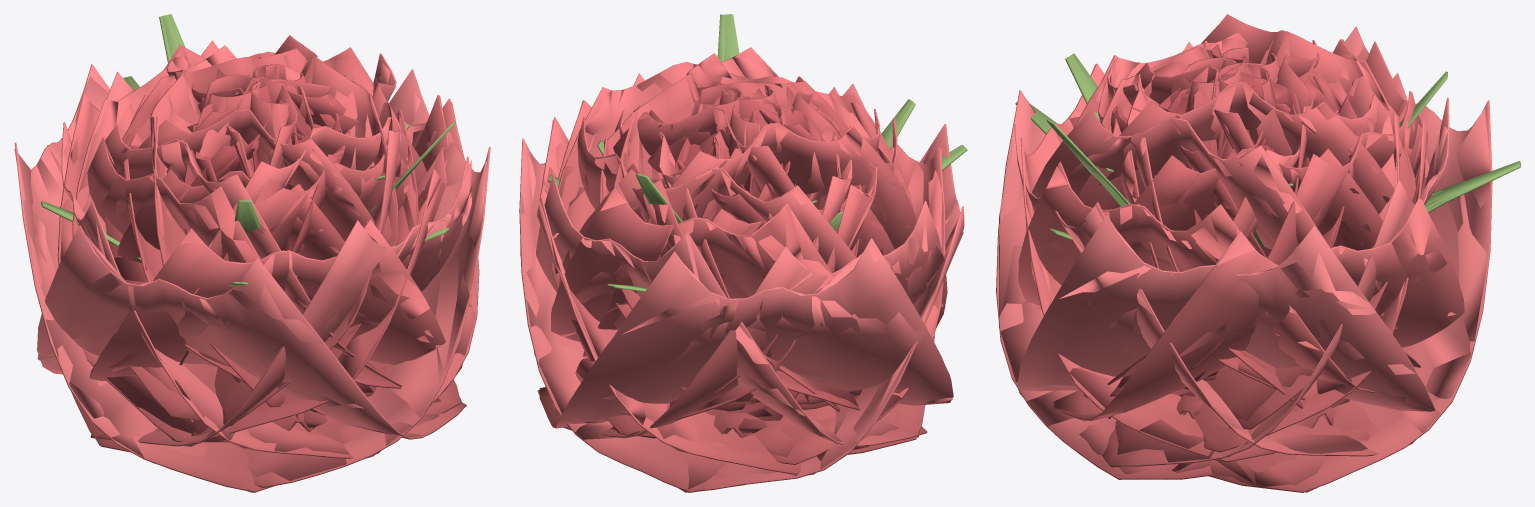
Rendered from roses.glb.
The picture shows the model from 3 angles, left to right: view 1: azimuth 30°, elevation 25°; view 2: azimuth 150°, elevation 25°; view 3: azimuth 270°, elevation 25°; orthographic projection. The views are drawn at different scales.
Visible parts, largest first — view 1: petal_L5_31, petal_L4_26, petal_L5_32_lo, petal_L5_29, petal_L5_33, petal_L5_32, petal_L5_33_lo, petal_L4_18, petal_L5_31_lo, petal_L4_23, petal_L4_24, petal_L5_23 (+44 smaller); view 2: petal_L5_33, petal_L4_25, petal_L4_20, petal_L5_33_lo, petal_L5_30, petal_L5_28, petal_L5_32, petal_L5_32_lo, petal_L4_27, petal_L5_31, petal_L5_25, petal_L5_24 (+38 smaller); view 3: petal_L5_32, petal_L4_27, petal_L5_33_lo, petal_L4_24, petal_L5_24, petal_L5_33, petal_L4_19, petal_L5_31_lo, petal_L5_31, petal_L3_19, petal_L5_32_lo, petal_L4_26 (+38 smaller).
Part boxes in pixels (x1,y1,x2,y2): petal_L5_31: (37,225,466,439); petal_L4_26: (90,219,445,380); petal_L5_32_lo: (242,85,487,487); petal_L5_29: (90,156,472,446); petal_L5_33: (14,64,274,492); petal_L5_32: (231,69,490,487); petal_L5_33_lo: (14,76,254,492); petal_L4_18: (118,109,374,240); petal_L5_31_lo: (37,232,466,437); petal_L4_23: (87,137,401,388); petal_L4_24: (192,95,448,440); petal_L5_23: (105,124,401,386); petal_L5_33: (539,238,953,428); petal_L4_25: (551,184,892,373); petal_L4_20: (583,122,916,356); petal_L5_33_lo: (537,243,952,427); petal_L5_30: (536,175,927,446); petal_L5_28: (601,200,947,438); petal_L5_32: (519,73,744,492); petal_L5_32_lo: (520,84,727,491); petal_L4_27: (537,117,801,474); petal_L5_31: (678,124,964,492); petal_L5_25: (559,168,856,285); petal_L5_24: (550,47,778,415); petal_L5_32: (1017,215,1435,410); petal_L4_27: (1046,197,1464,421); petal_L5_33_lo: (1210,43,1490,492); petal_L4_24: (1018,161,1374,392); petal_L5_24: (1025,109,1420,367); petal_L5_33: (1108,26,1492,492); petal_L4_19: (1077,82,1394,214); petal_L5_31_lo: (999,49,1336,479); petal_L5_31: (996,42,1333,479); petal_L3_19: (1134,148,1382,250); petal_L5_32_lo: (1018,227,1432,411); petal_L4_26: (1020,63,1344,462).
Size of the model in its own units: 1.09 by 1.04 by 1.17.
